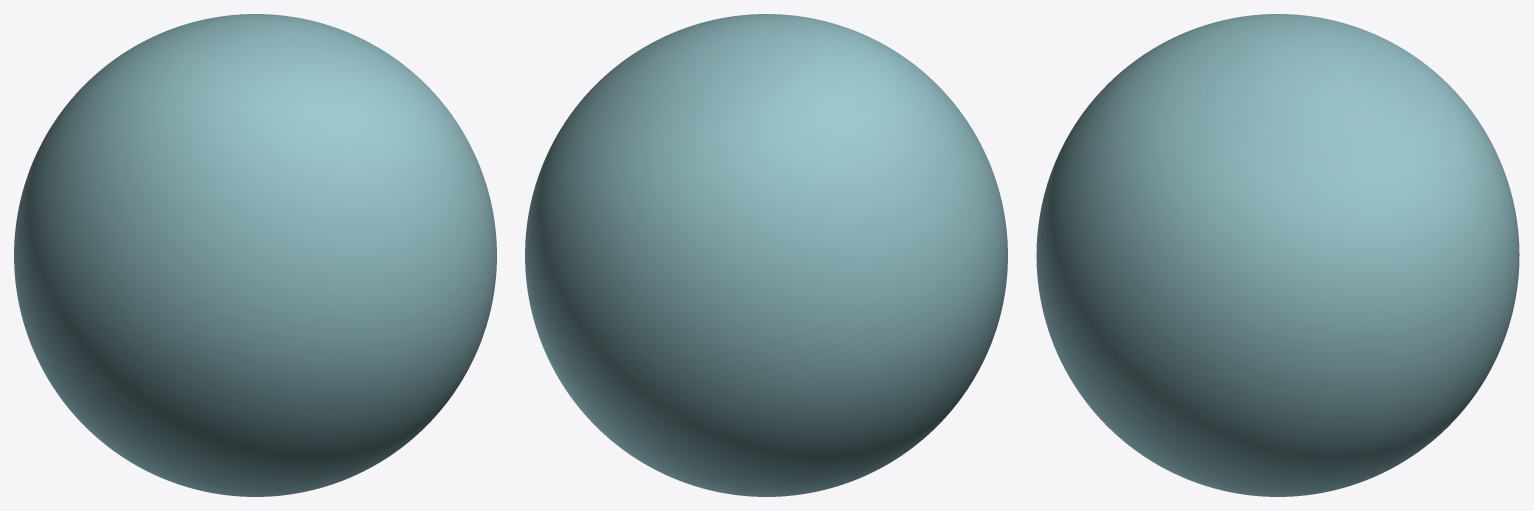
File: uranus.glb
3 views of the same model, side by side, from view 1: azimuth 30°, elevation 25°; view 2: azimuth 150°, elevation 25°; view 3: azimuth 270°, elevation 25° (orthographic).
Parts seen in each view (by area): view 1: skfb_offset; view 2: skfb_offset; view 3: skfb_offset.
Boxes of the visible parts, x1,y1,x2,y2 form: skfb_offset: (14,14,496,496); skfb_offset: (525,14,1007,496); skfb_offset: (1036,14,1519,496).
Bounding box in the file's own units: 539969 × 539994 × 539993.
Materials: 1 (1 with a texture image).
